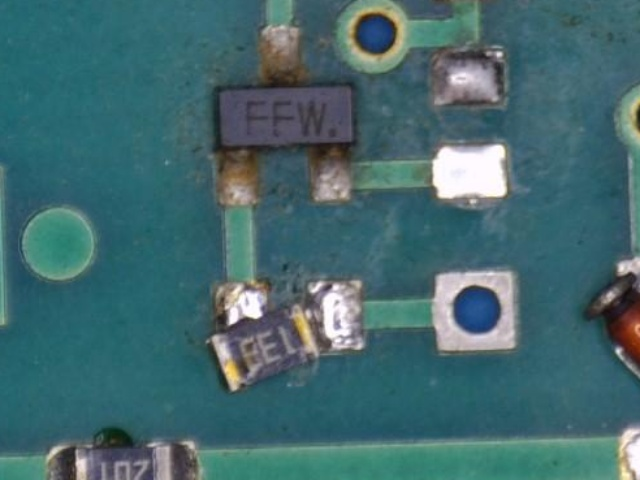pcb_defect: (208, 279, 365, 392), (584, 253, 640, 480)
